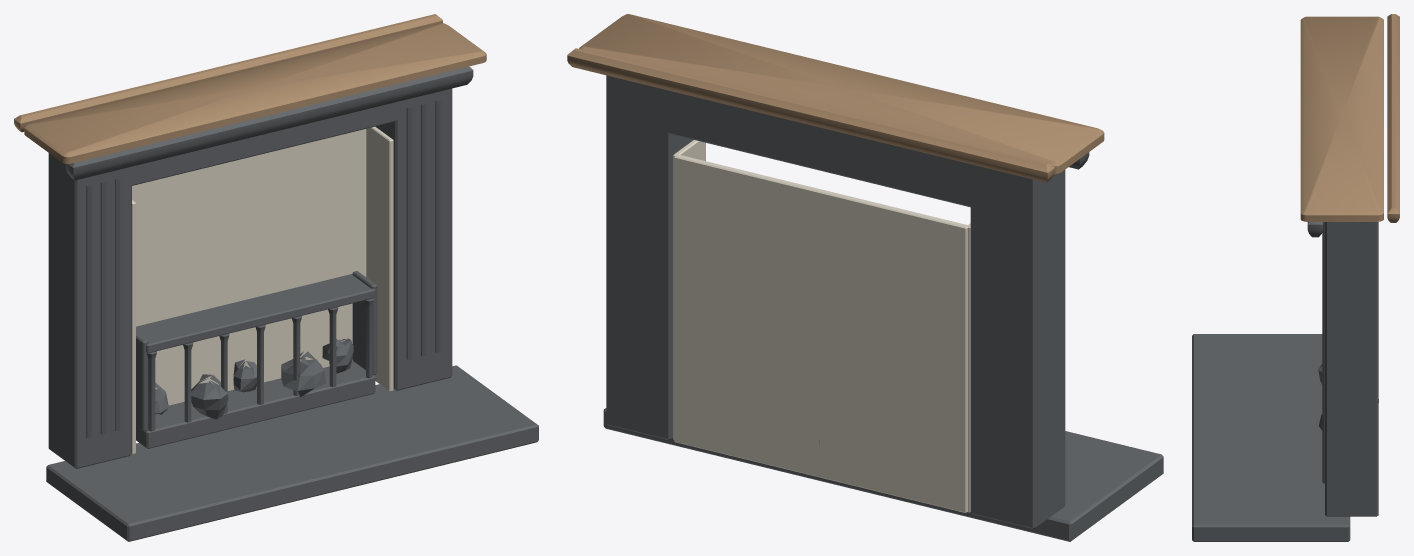
The model's file is bar-pub-and-brewery-taproom-pub-fireplace-d0986123__18416.glb.
3 views of the same model, side by side, from view 1: azimuth 30°, elevation 25°; view 2: azimuth 150°, elevation 25°; view 3: azimuth 270°, elevation 25° (orthographic). The views are drawn at different scales.
Visible parts, largest first — view 1: pub-fireplace; view 2: pub-fireplace; view 3: pub-fireplace.
Boxes of the visible parts, <box> form: pub-fireplace: <box>14,14,538,541</box>; pub-fireplace: <box>567,14,1163,541</box>; pub-fireplace: <box>1192,14,1399,541</box>.
Size of the model in its own units: 1.48 by 1.17 by 0.657.
